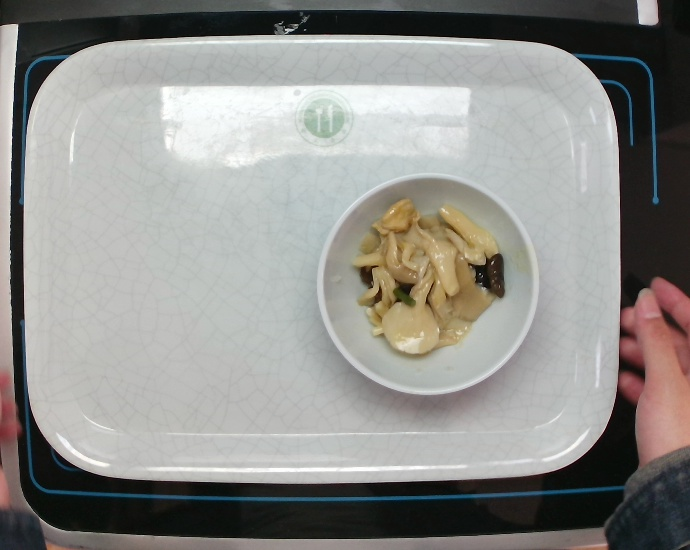JYsf-Fan_Wan: (311, 169, 545, 402)
